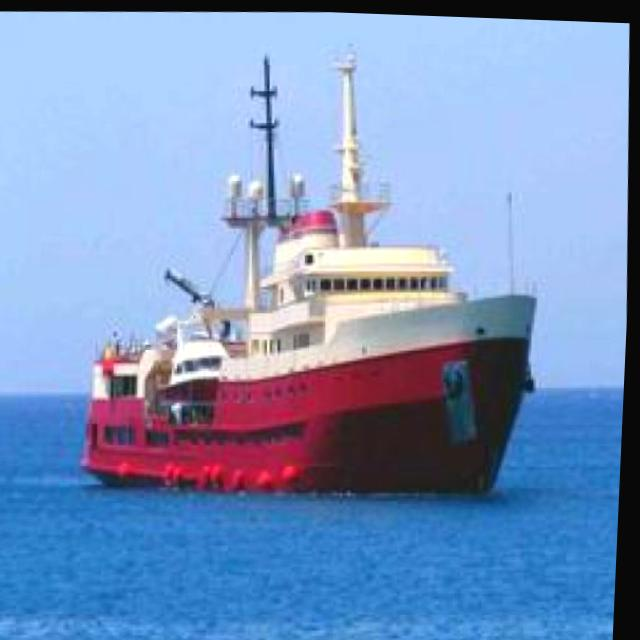ship2: (83, 44, 539, 494)
